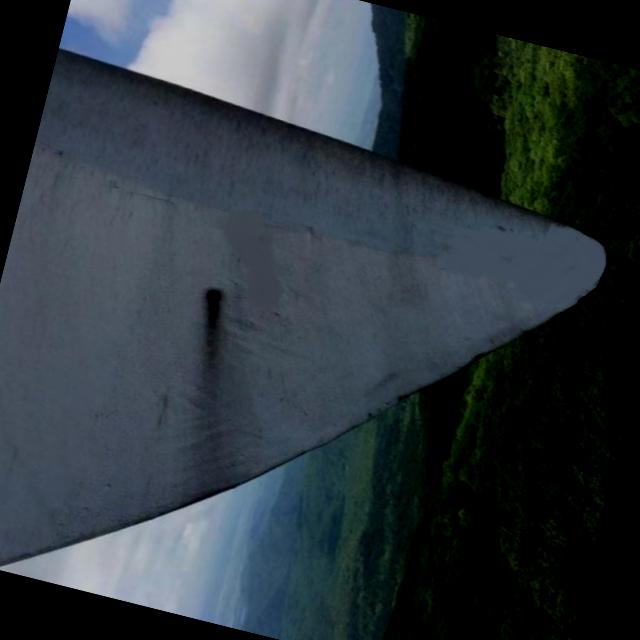crack: (188, 282, 235, 351)
